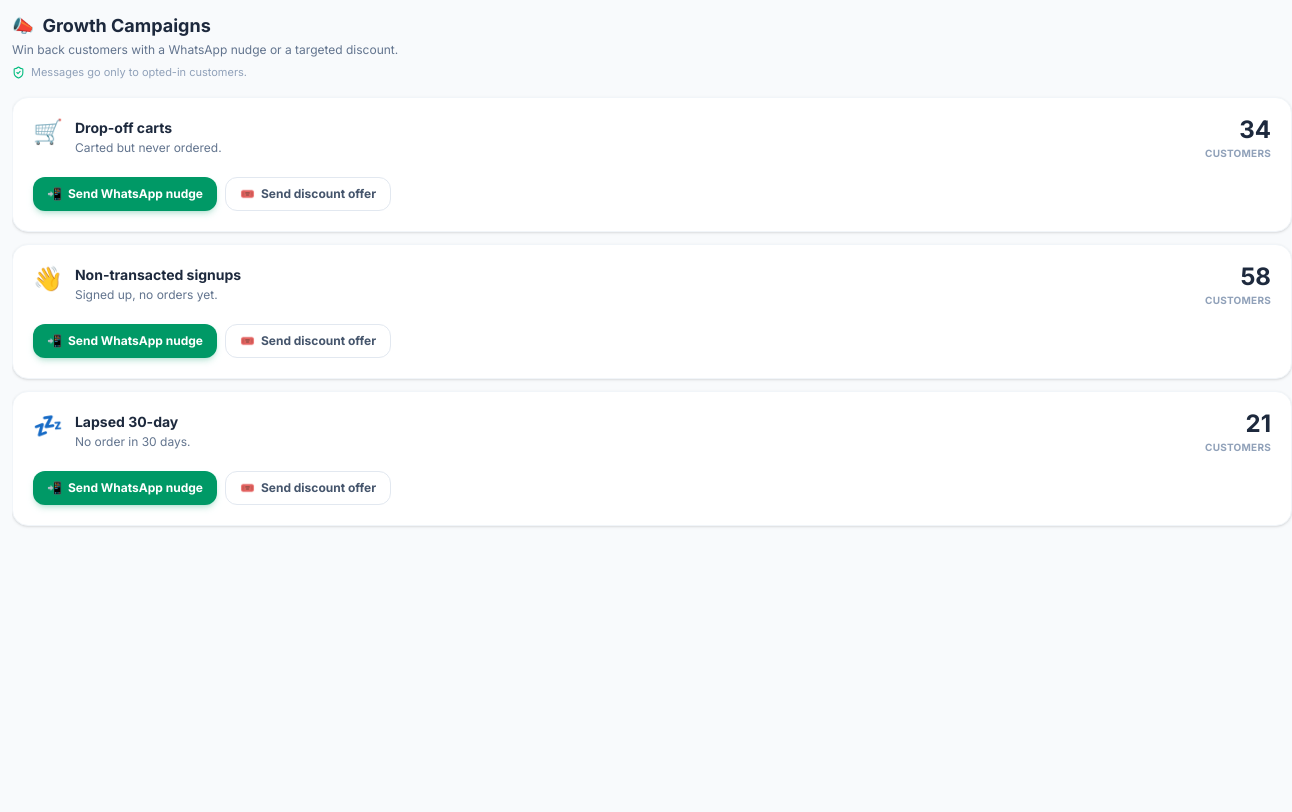
Scenario: Campaigns Component › opens the inline discount form and sends a validated discount offer
This screenshot has width=1292, height=812.
Expected: the heading "Drop-off carts" is shown, [75,118,172,136]
// Open the inline form on the first cohort
Click the button "🎟️ Send discount offer" below "Carted but never ordered." at (308, 194), box [225,176,391,210]
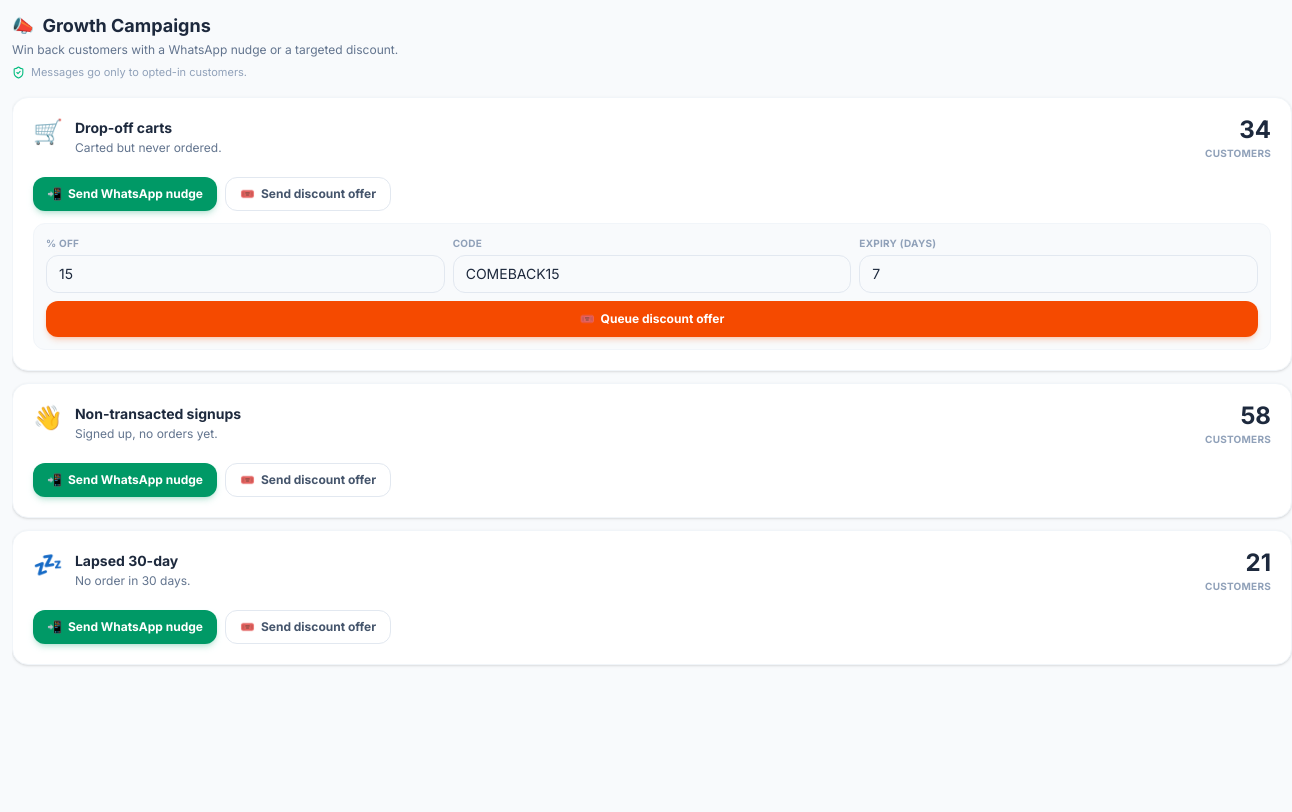
Replace the text in the number field labelled "% off" with "20" at (245, 274), box [46,254,445,292]
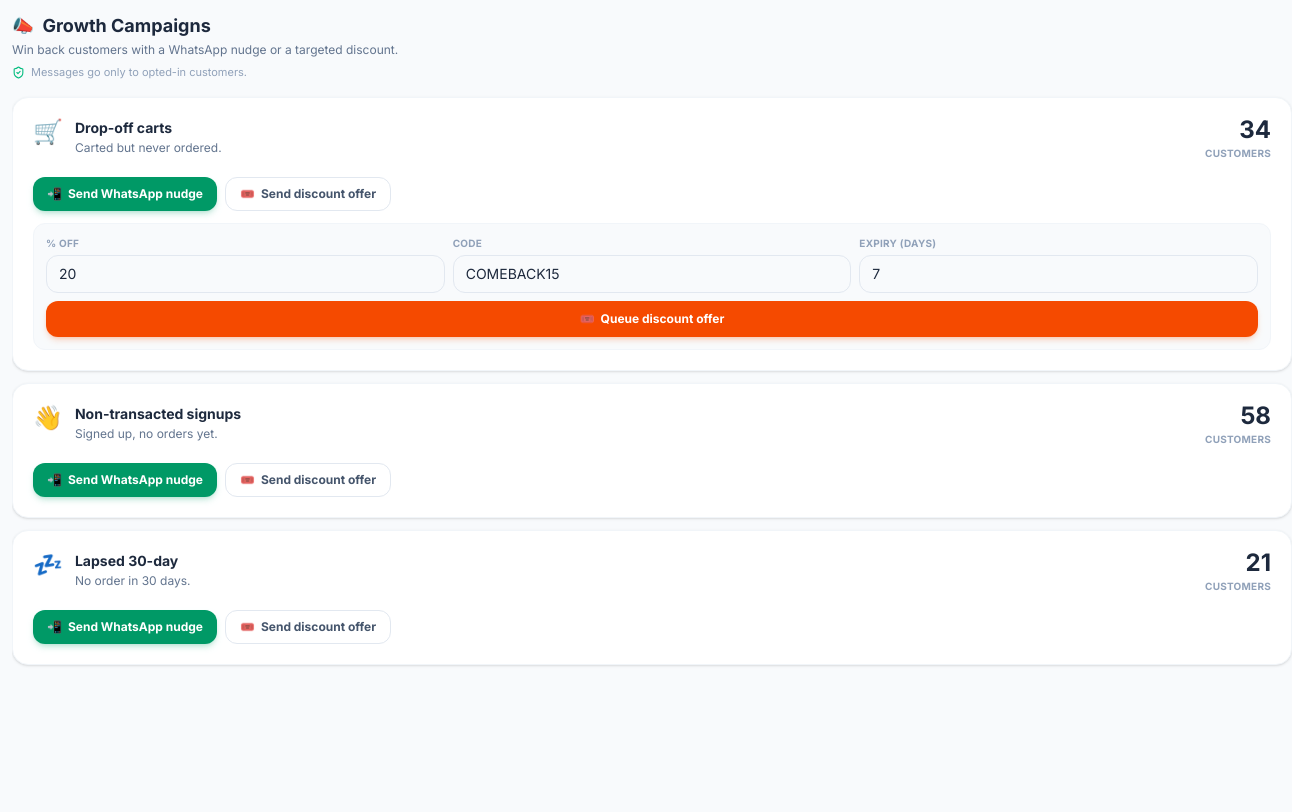
Replace the text in the field labelled "Code" with "comeback20" at (652, 274), box [453,254,851,292]
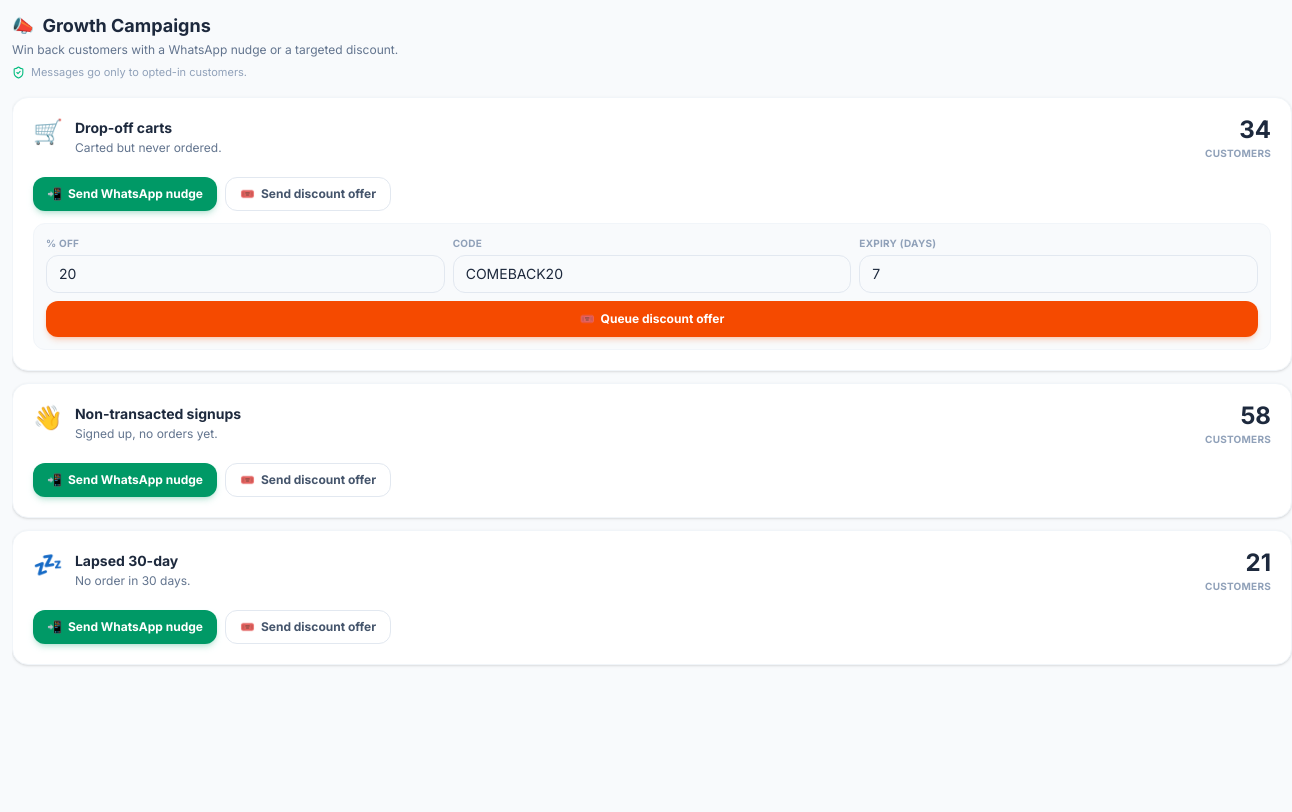
Replace the text in the number field labelled "Expiry (days)" with "5" at (1059, 274), box [859,254,1258,292]
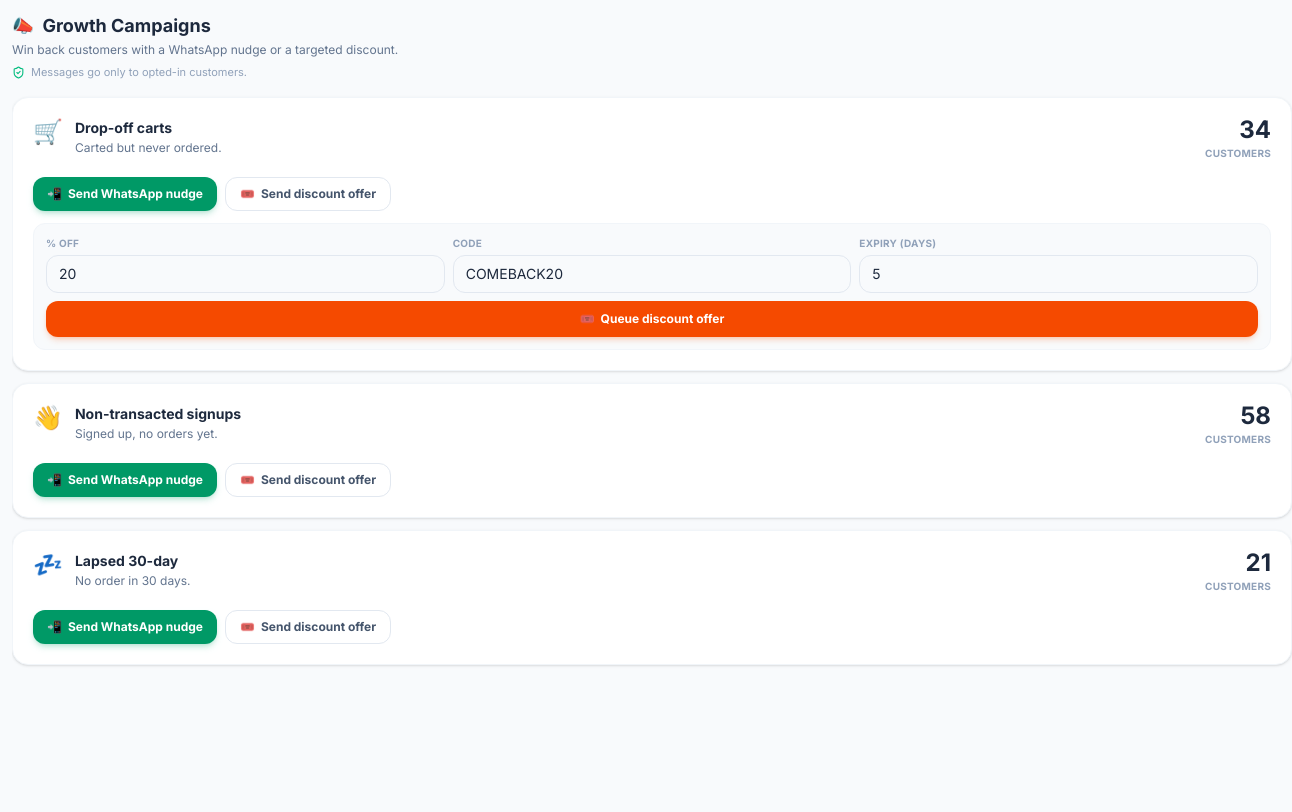
Click the button "🎟️ Queue discount offer" at (652, 318), box [46,300,1258,336]
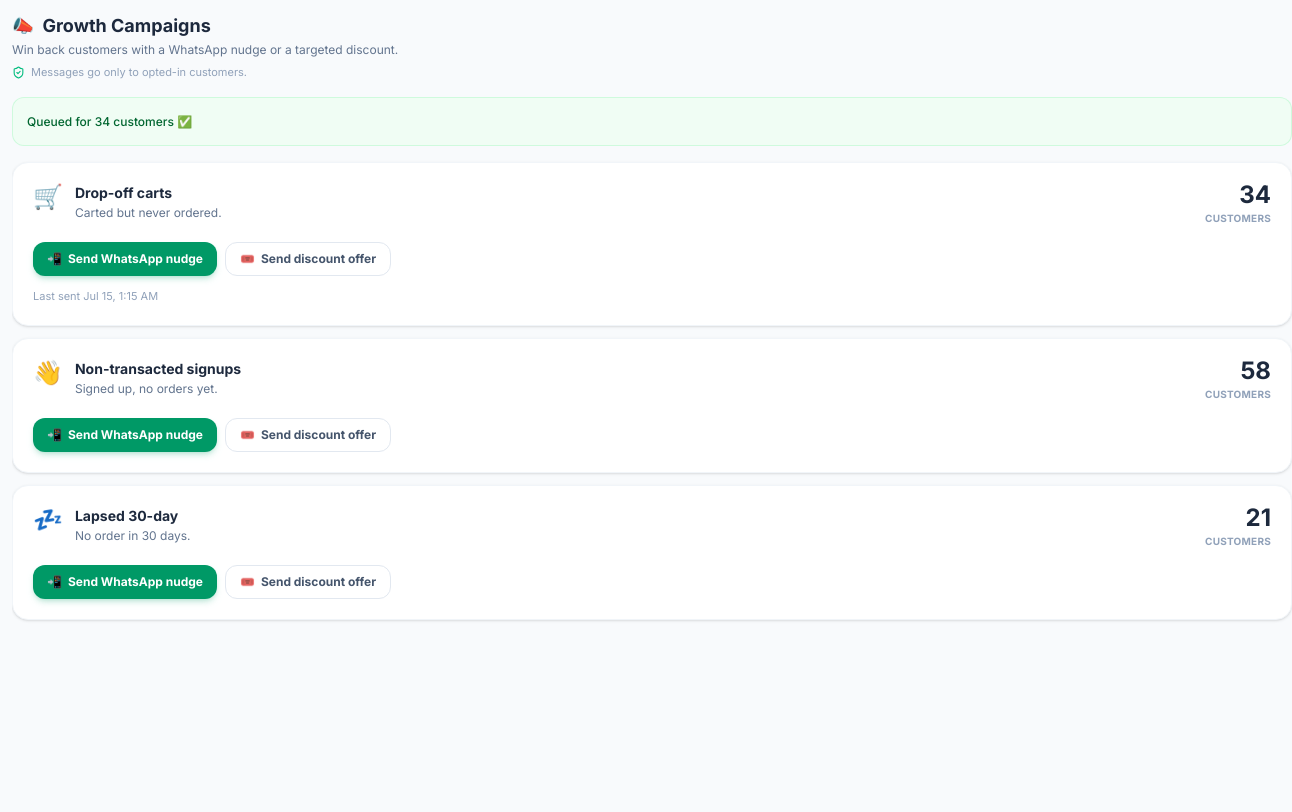
Result: the text "Queued for 34 customers ✅" is shown at [27,114,192,128]
